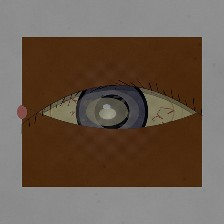corneal_ulcer: (73, 85, 141, 139)
